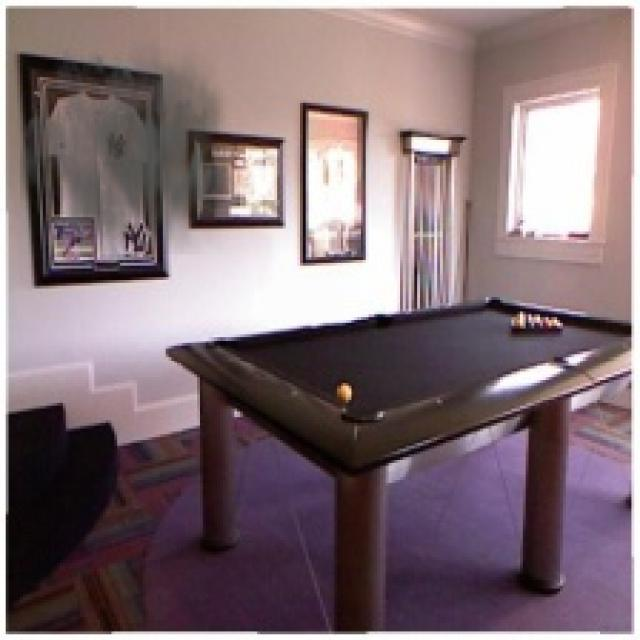smoke: (20, 26, 240, 254)
